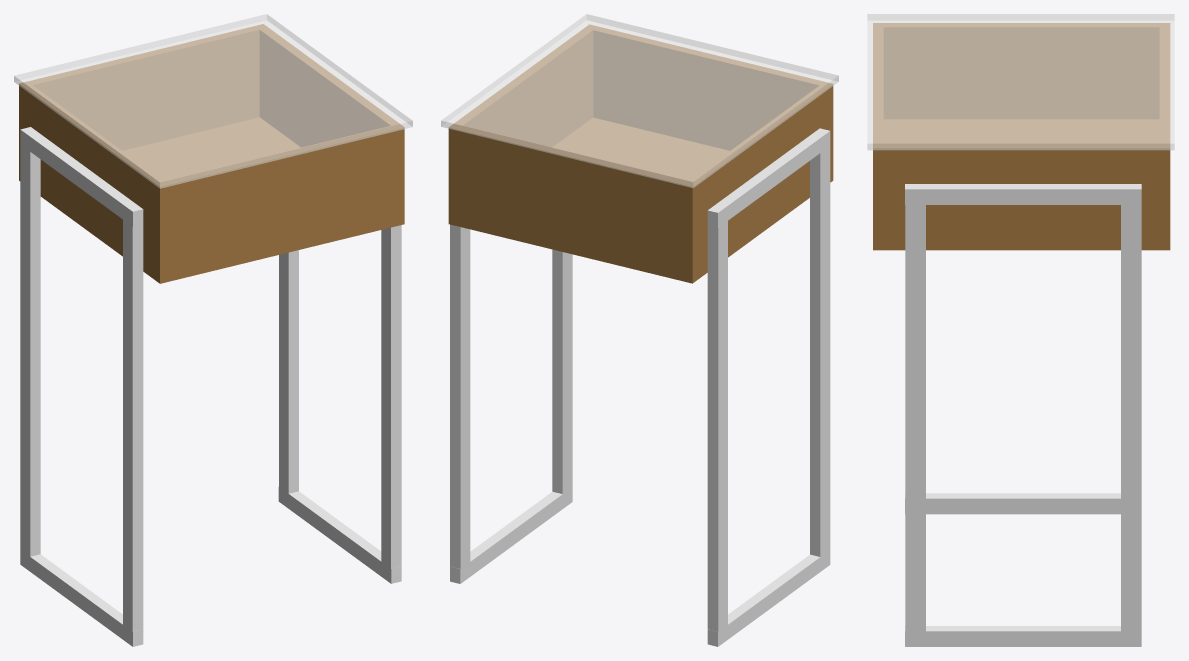
3 renders of one model, left to right at view 1: azimuth 30°, elevation 25°; view 2: azimuth 150°, elevation 25°; view 3: azimuth 270°, elevation 25°, orthographic. The views are drawn at different scales.
Parts seen in each view (by area): view 1: Object.014; view 2: Object.014; view 3: Object.014.
Boxes of the visible parts, bbox=[...] form: Object.014: bbox=[14, 14, 412, 646]; Object.014: bbox=[441, 14, 838, 646]; Object.014: bbox=[867, 14, 1174, 646].
Size of the model in its own units: 0.6163 by 1.04 by 0.5798.
